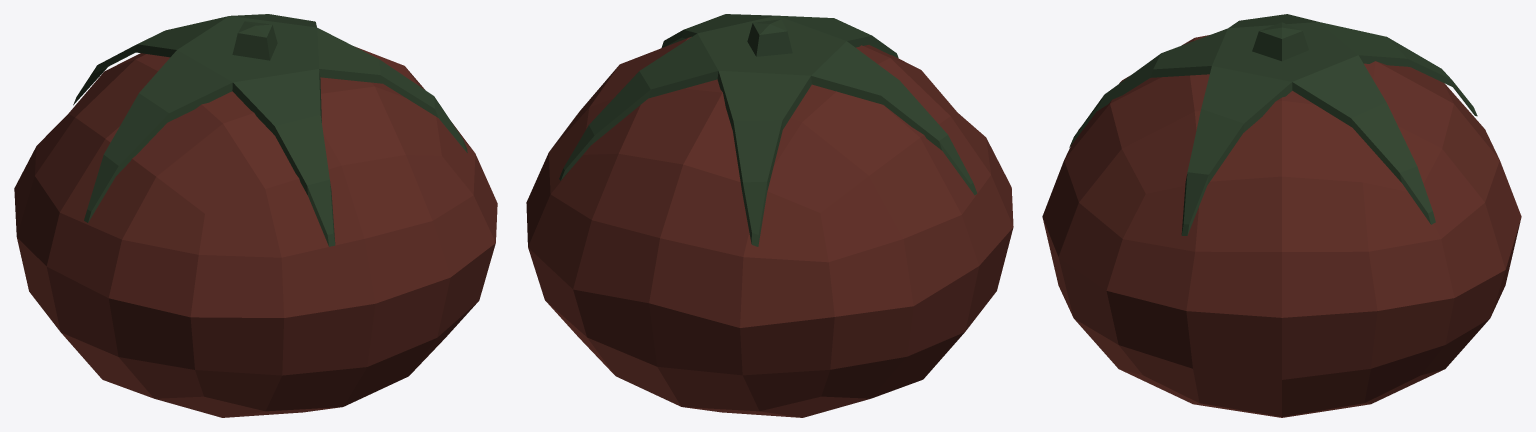
3 views of the same model, side by side, from view 1: azimuth 30°, elevation 25°; view 2: azimuth 150°, elevation 25°; view 3: azimuth 270°, elevation 25° (orthographic).
Visible parts, largest first — view 1: mesh_0, mesh_1; view 2: mesh_0, mesh_1; view 3: mesh_0, mesh_1.
Boxes of the visible parts, box(x1,y1,x2,y2) form: mesh_0: box(14, 46, 497, 417); mesh_1: box(73, 14, 467, 246); mesh_0: box(526, 36, 1013, 417); mesh_1: box(559, 14, 977, 246); mesh_0: box(1042, 35, 1521, 417); mesh_1: box(1069, 14, 1477, 235).
Size of the model in its own units: 0.7525 by 0.6264 by 0.7525.
